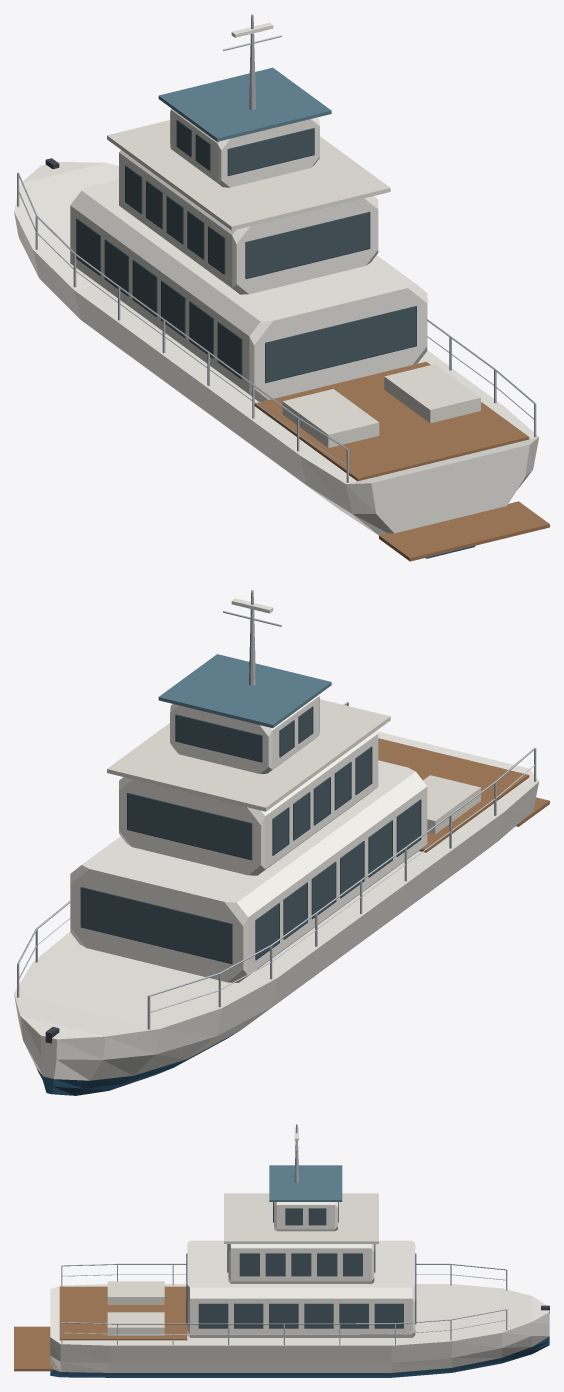
File: BOAT_03.obj
3 views of the same model, one above another, from view 1: azimuth 30°, elevation 25°; view 2: azimuth 150°, elevation 25°; view 3: azimuth 270°, elevation 25° (orthographic). The views are drawn at different scales.
Parts seen in each view (by area): view 1: hull_upper, main_cabin, windows, upper_roof, aft_deck, upper_deck, aft_seats, flybridge_roof, swim_platform, flybridge, railings; view 2: hull_upper, main_cabin, windows, upper_roof, upper_deck, flybridge_roof, aft_deck, flybridge, railings, aft_seats, hull_lower, mast; view 3: hull_upper, main_cabin, windows, upper_roof, aft_deck, upper_deck, hull_lower, aft_seats, flybridge_roof, railings, swim_platform, flybridge.
Part boxes in pixels (<box>): hull_upper: <box>14,161,539,535</box>; main_cabin: <box>70,179,427,401</box>; windows: <box>76,120,416,383</box>; upper_roof: <box>107,120,390,230</box>; aft_deck: <box>254,361,529,481</box>; upper_deck: <box>119,150,378,294</box>; aft_seats: <box>282,364,480,447</box>; flybridge_roof: <box>158,67,331,141</box>; swim_platform: <box>379,501,549,561</box>; flybridge: <box>170,108,319,187</box>; railings: <box>17,172,536,482</box>; hull_upper: <box>14,731,539,1080</box>; main_cabin: <box>70,760,427,982</box>; windows: <box>80,706,421,964</box>; upper_roof: <box>107,699,390,811</box>; upper_deck: <box>119,731,378,875</box>; flybridge_roof: <box>158,654,331,728</box>; aft_deck: <box>378,738,529,852</box>; flybridge: <box>170,695,319,773</box>; railings: <box>17,702,536,1029</box>; aft_seats: <box>423,775,480,834</box>; hull_lower: <box>36,1032,237,1095</box>; mast: <box>223,590,281,685</box>; hull_upper: <box>50,1284,549,1372</box>; main_cabin: <box>187,1240,415,1337</box>; windows: <box>186,1202,416,1328</box>; upper_roof: <box>224,1193,378,1243</box>; aft_deck: <box>59,1286,187,1340</box>; upper_deck: <box>228,1244,374,1283</box>; hull_lower: <box>50,1336,549,1377</box>; aft_seats: <box>107,1281,164,1335</box>; flybridge_roof: <box>269,1165,342,1201</box>; railings: <box>61,1263,507,1344</box>; swim_platform: <box>14,1326,52,1371</box>; flybridge: <box>274,1202,337,1231</box>.
Bounding box in the file's own units: 6.4 × 11.83 × 23.5.
